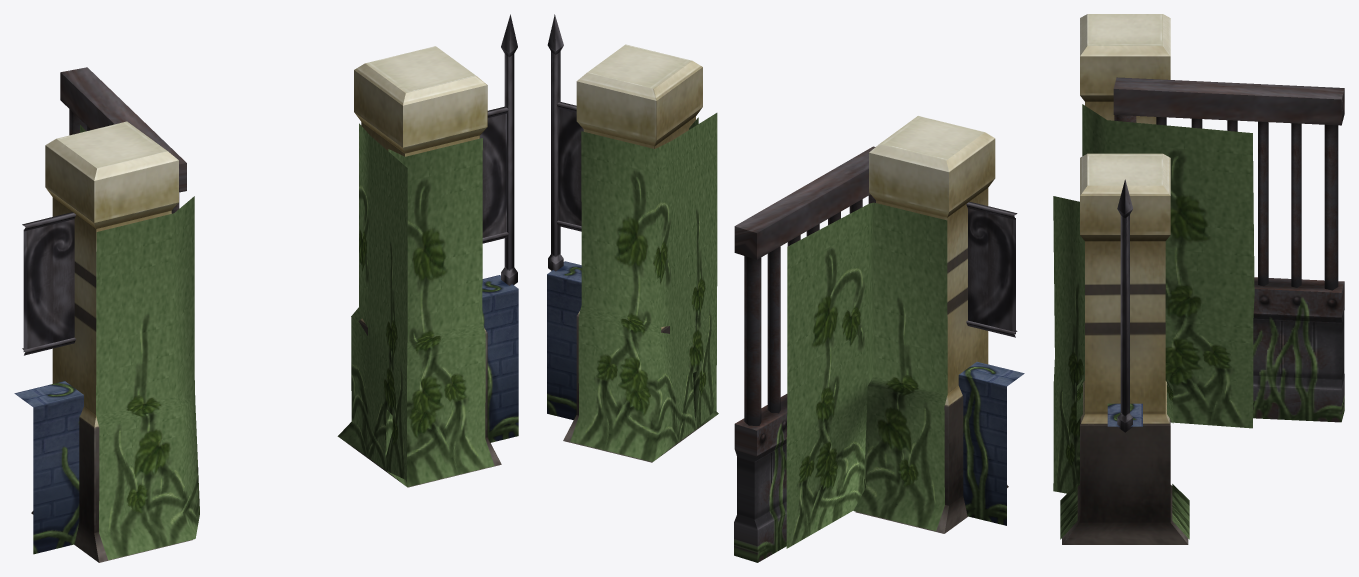
File: a_SwTgate02_1.glb
3 renders of one model, left to right at view 1: azimuth 30°, elevation 25°; view 2: azimuth 150°, elevation 25°; view 3: azimuth 270°, elevation 25°, orthographic. The views are drawn at different scales.
Visible parts, largest first — view 1: a_SwTgate02_1; view 2: a_SwTgate02_1; view 3: a_SwTgate02_1.
Boxes of the visible parts, bbox=[...] form: a_SwTgate02_1: bbox=[14, 14, 518, 562]; a_SwTgate02_1: bbox=[547, 14, 1024, 562]; a_SwTgate02_1: bbox=[1053, 14, 1344, 544].
Bounding box in the file's own units: 4.07 × 3.27 × 2.24.
Materials: 5 (5 with a texture image).
